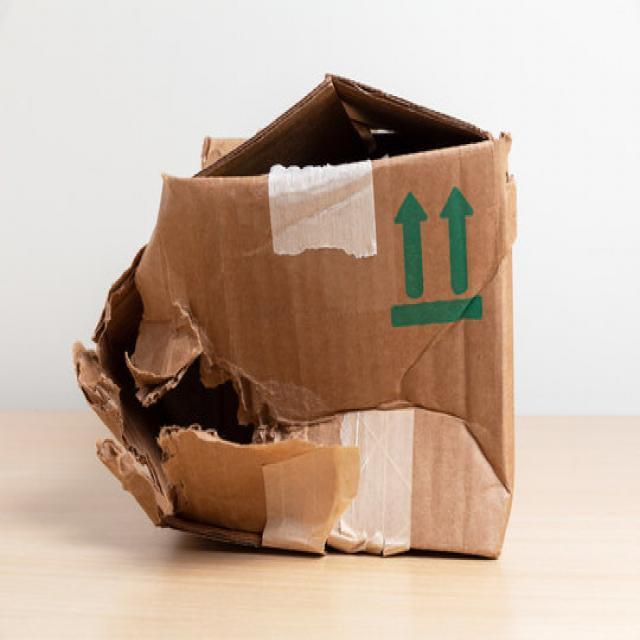damaged: (83, 269, 287, 511)
